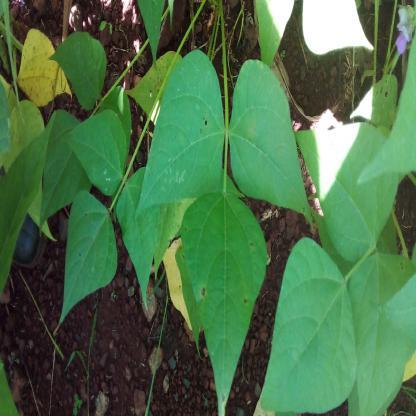Beans_Angular_LeafSpot: (177, 192, 267, 413), (137, 53, 225, 217), (347, 71, 397, 131)
